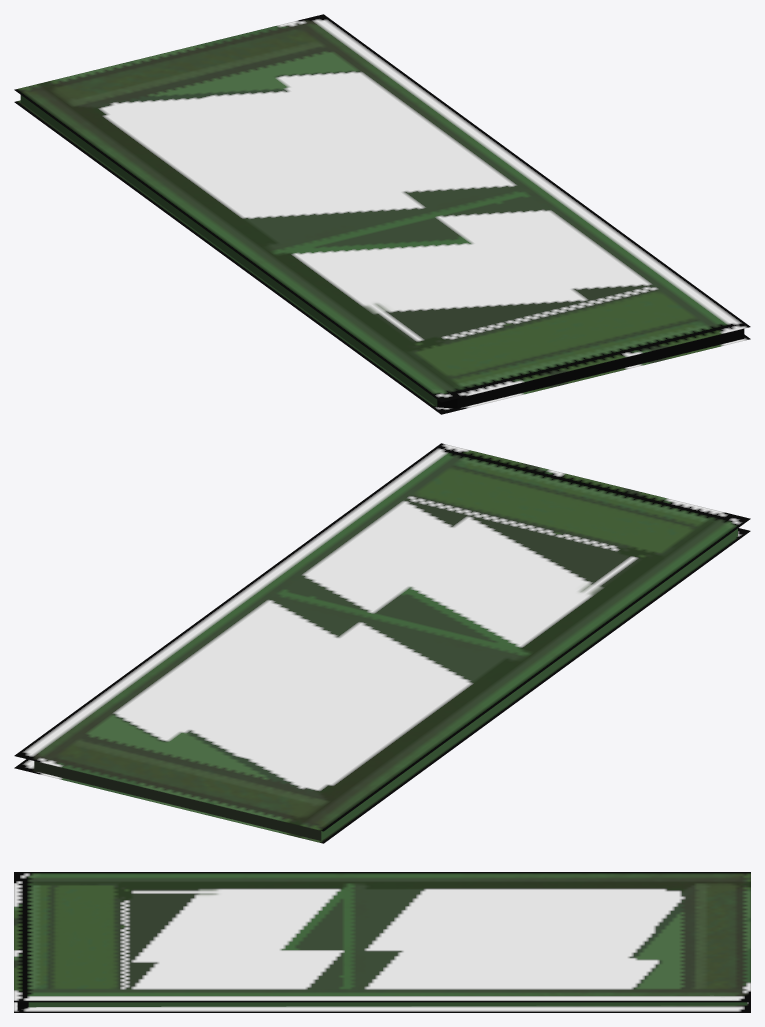
Rendered from pz_native_location_shop_greenes_01_79_frame.obj.
3 renders of one model, top to bottom at view 1: azimuth 30°, elevation 25°; view 2: azimuth 150°, elevation 25°; view 3: azimuth 270°, elevation 25°, orthographic. The views are drawn at different scales.
Visible parts, largest first — view 1: pz_native_location_shop_greenes_01_79_frame; view 2: pz_native_location_shop_greenes_01_79_frame; view 3: pz_native_location_shop_greenes_01_79_frame.
Part boxes in pixels (left/top/right/bottom): pz_native_location_shop_greenes_01_79_frame: left=14, top=14, right=750, bottom=414; pz_native_location_shop_greenes_01_79_frame: left=14, top=443, right=750, bottom=843; pz_native_location_shop_greenes_01_79_frame: left=14, top=872, right=750, bottom=1012.
Bounding box in the file's own units: 1.06 × 0.04 × 2.54.
1 material, 1 textured.
